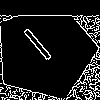I: (21, 26, 61, 70)
